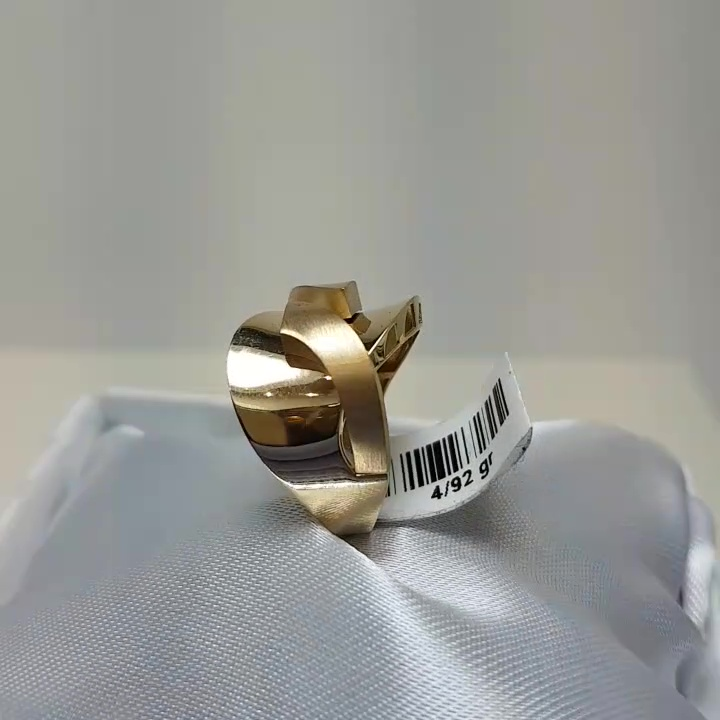Ring 4: (198, 253, 440, 554)
